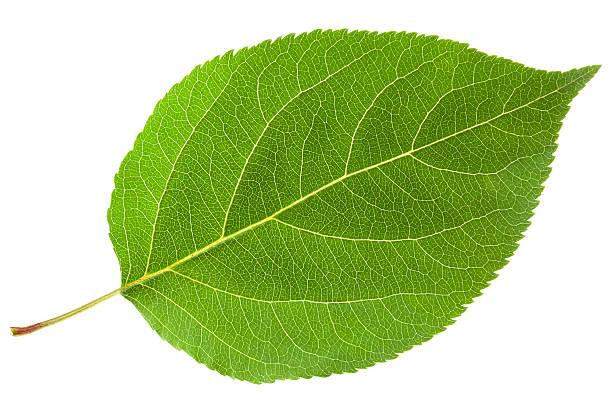Apple leaf: (103, 21, 612, 396)
